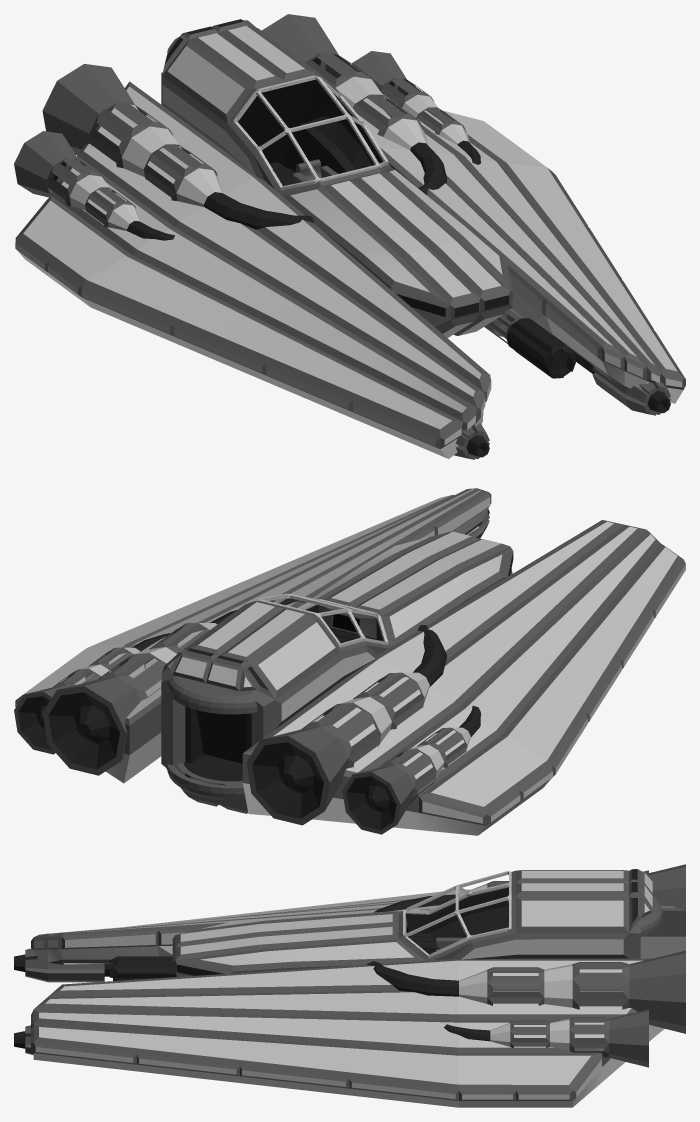
3 views of the same model, one above another, from view 1: azimuth 30°, elevation 25°; view 2: azimuth 150°, elevation 25°; view 3: azimuth 270°, elevation 25° (orthographic). The views are drawn at different scales.
Visible parts, largest first — view 1: if-420; view 2: if-420; view 3: if-420.
Boxes of the visible parts, <box> form: if-420: <box>14,14,685,459</box>; if-420: <box>14,488,685,835</box>; if-420: <box>14,864,685,1107</box>.
Size of the model in its own units: 12.1 by 17.06 by 3.88.
